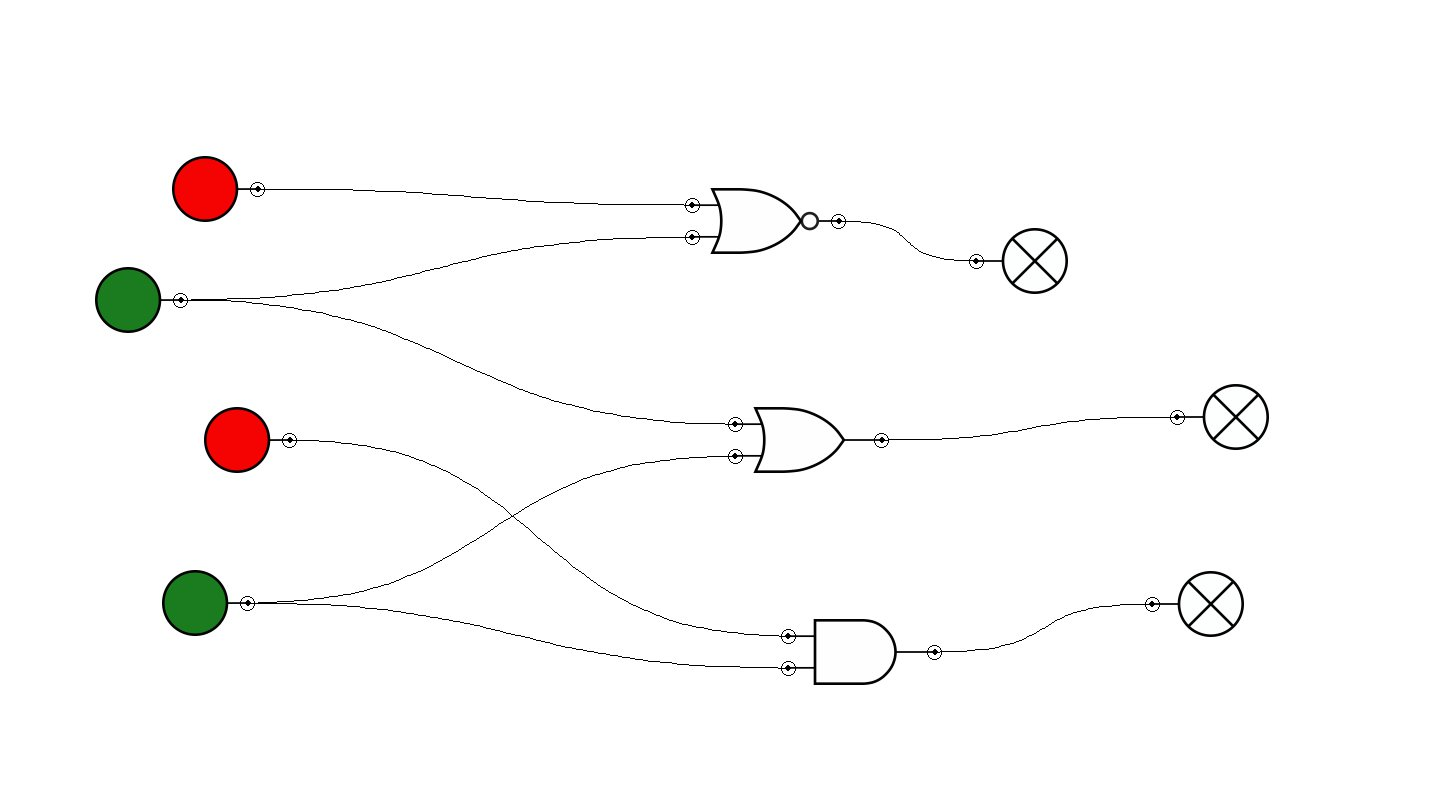and: (781, 619, 942, 685)
bulb: (1145, 571, 1244, 637), (1170, 384, 1269, 450), (969, 228, 1068, 294)
nor: (685, 188, 846, 254)
or: (728, 407, 889, 473)
switch_False: (204, 407, 297, 473), (172, 156, 265, 222)
switch_True: (95, 267, 188, 333), (162, 570, 255, 636)
